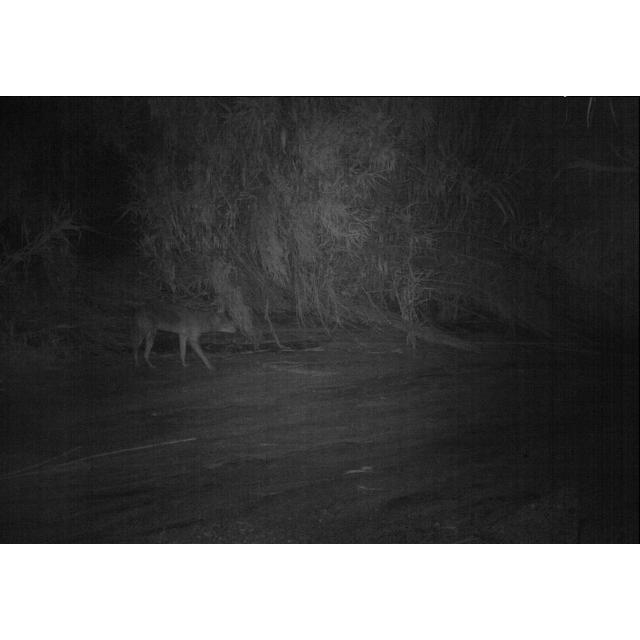animals: (129, 297, 243, 379)
